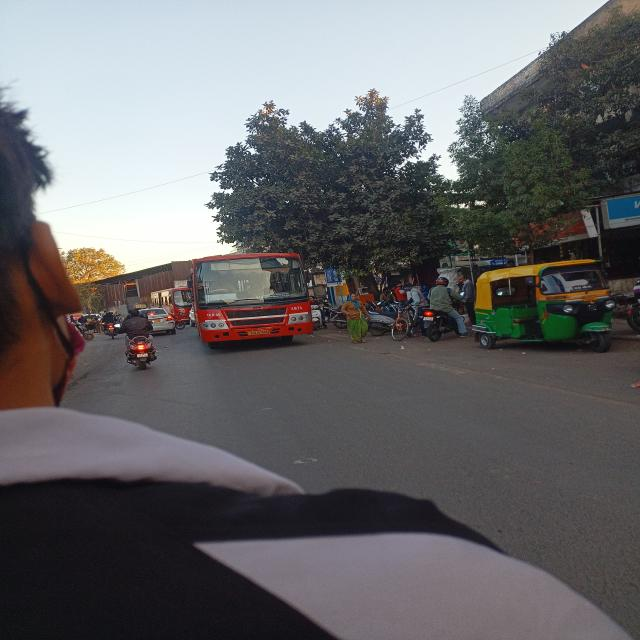Number_Plate_Detected: (248, 329, 270, 336), (137, 352, 149, 358), (422, 316, 434, 321), (149, 319, 161, 322), (109, 327, 115, 330)
